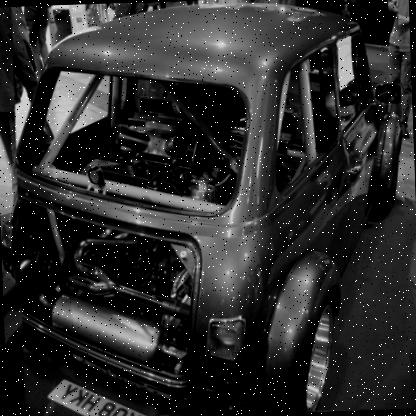Car: (10, 0, 412, 415)
